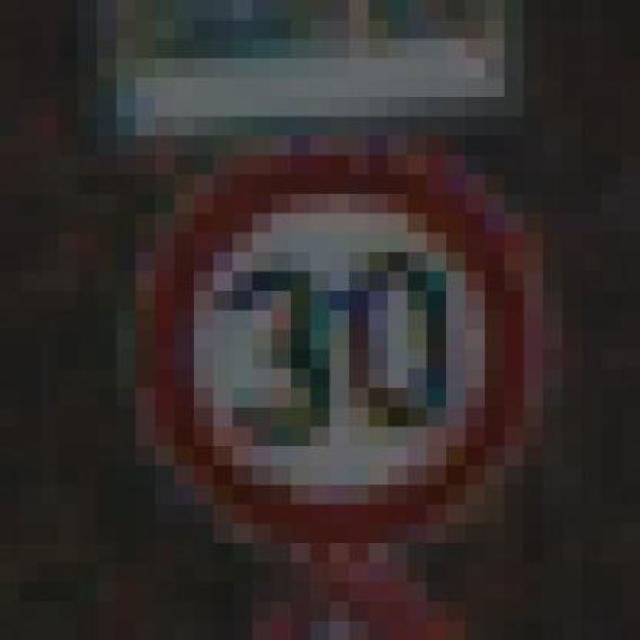Speed Limit 30 KMPh: (19, 78, 621, 562)
